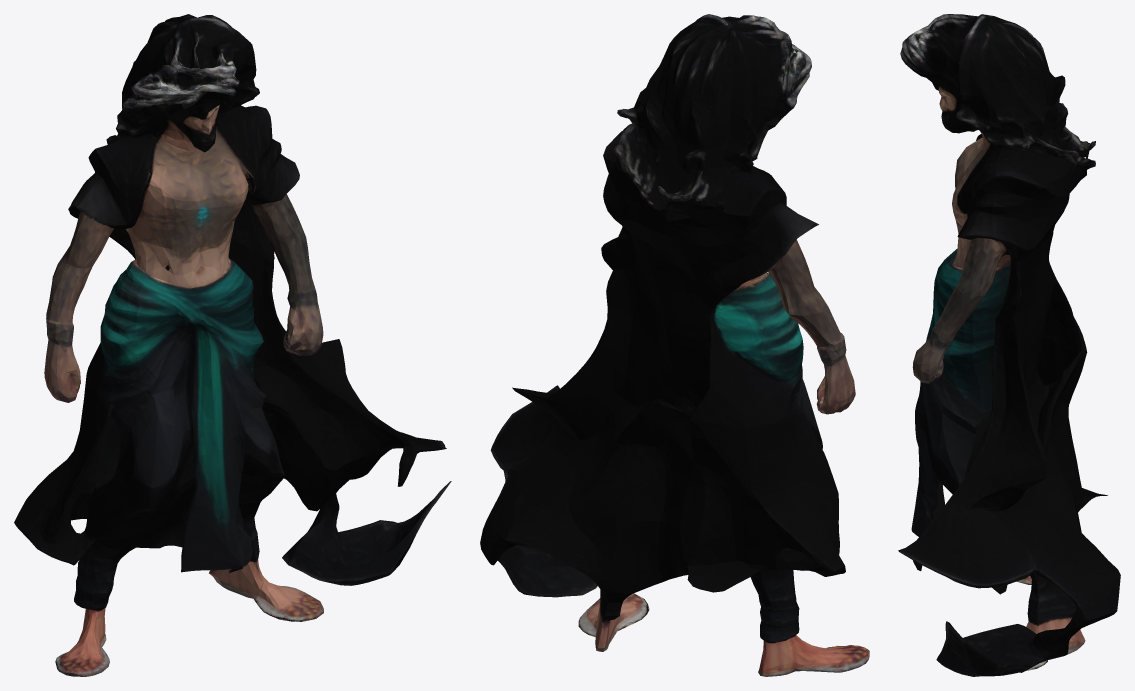
Rendered from shah-black.glb.
3 views of the same model, side by side, from view 1: azimuth 30°, elevation 25°; view 2: azimuth 150°, elevation 25°; view 3: azimuth 270°, elevation 25° (orthographic). The views are drawn at different scales.
Visible parts, largest first — view 1: shah; view 2: shah; view 3: shah.
Part boxes in pixels (<box>): shah: <box>14,14,451,676</box>; shah: <box>480,14,869,676</box>; shah: <box>898,14,1120,676</box>.
Size of the model in its own units: 0.9403 by 1.44 by 0.4855.
1 material, 1 textured.
